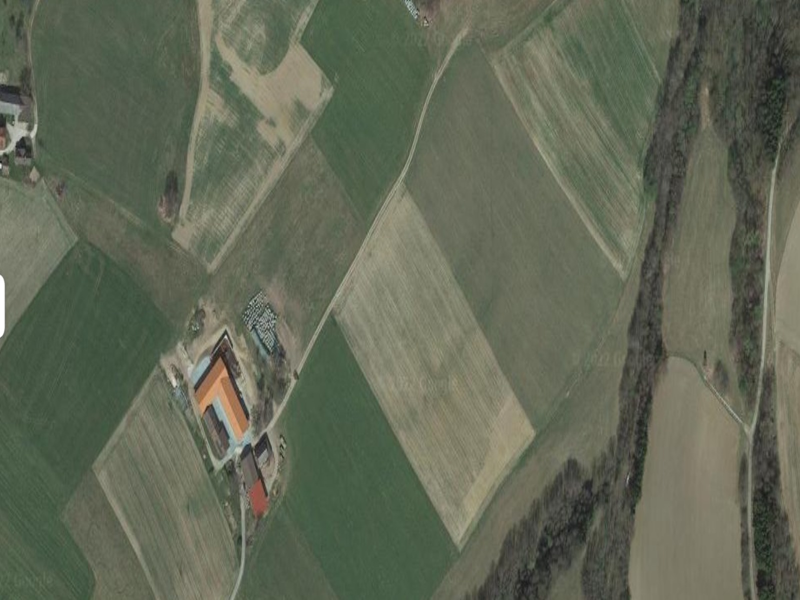field: (333, 184, 540, 546)
